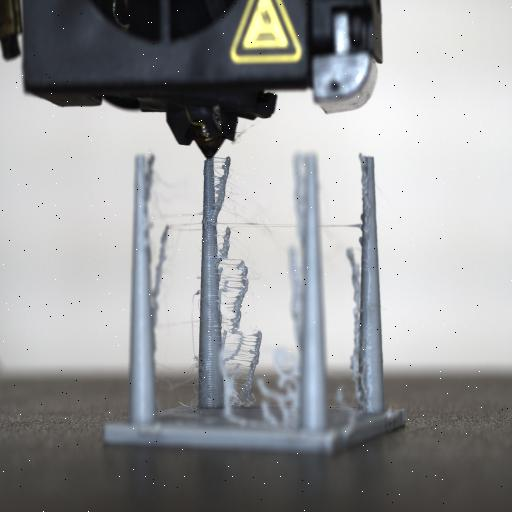stringing: (141, 159, 353, 413)
